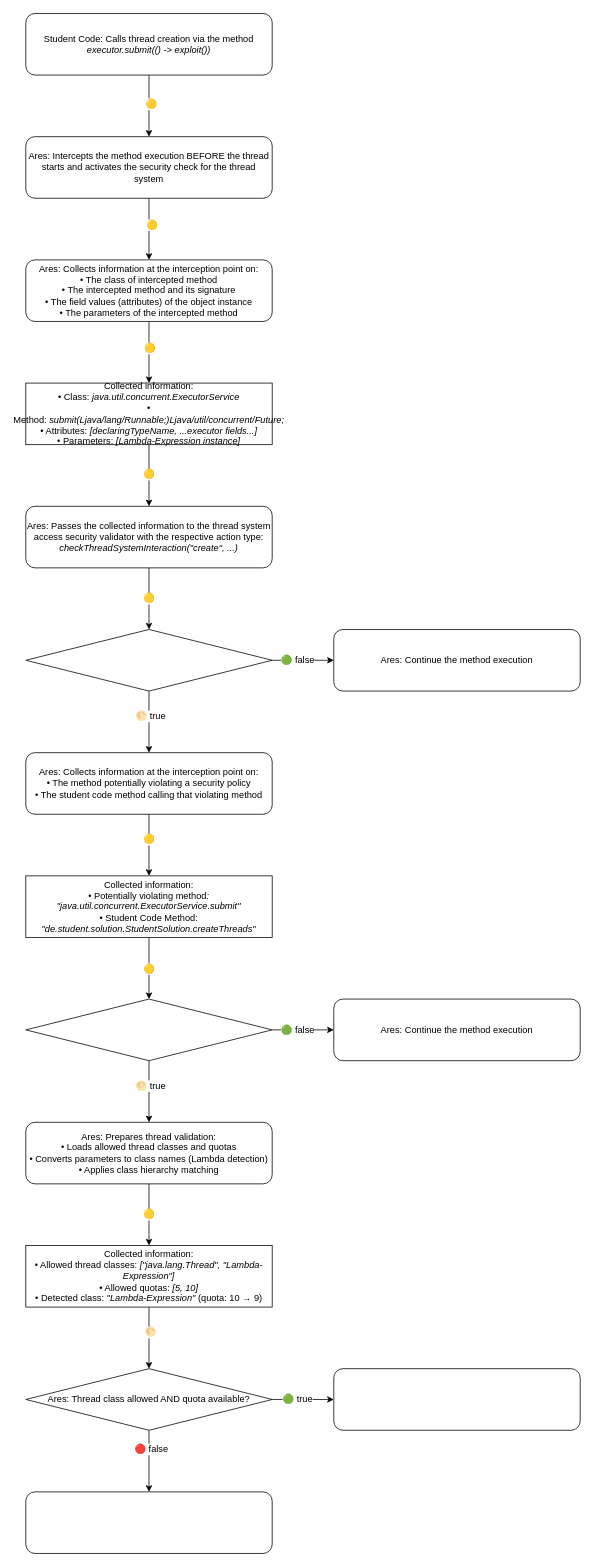
The diagram is 594 pixels wide and 1567 high, and some of its shapes have lost their labels. The centre of each missing label's shape, as x and y in pixels:
Ares: Block the method execution: [148,1522]
Ares: Continue the method execution (decrement thread quota): [456,1399]
Ares: Does the potentially violating method call come from the Student Code?: [148,1029]
Ares: Is the respective security enabled?: [148,660]
